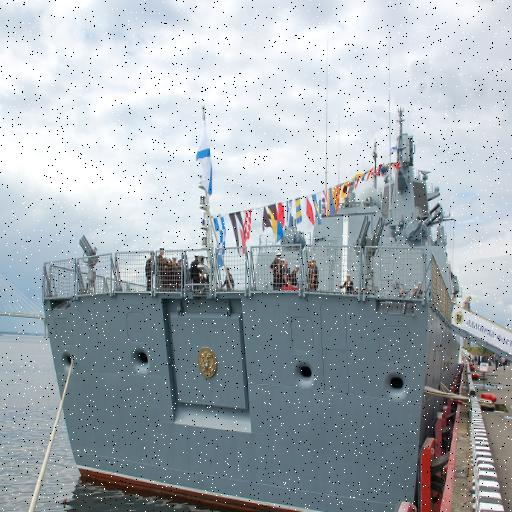Fragata: (41, 98, 460, 512)
